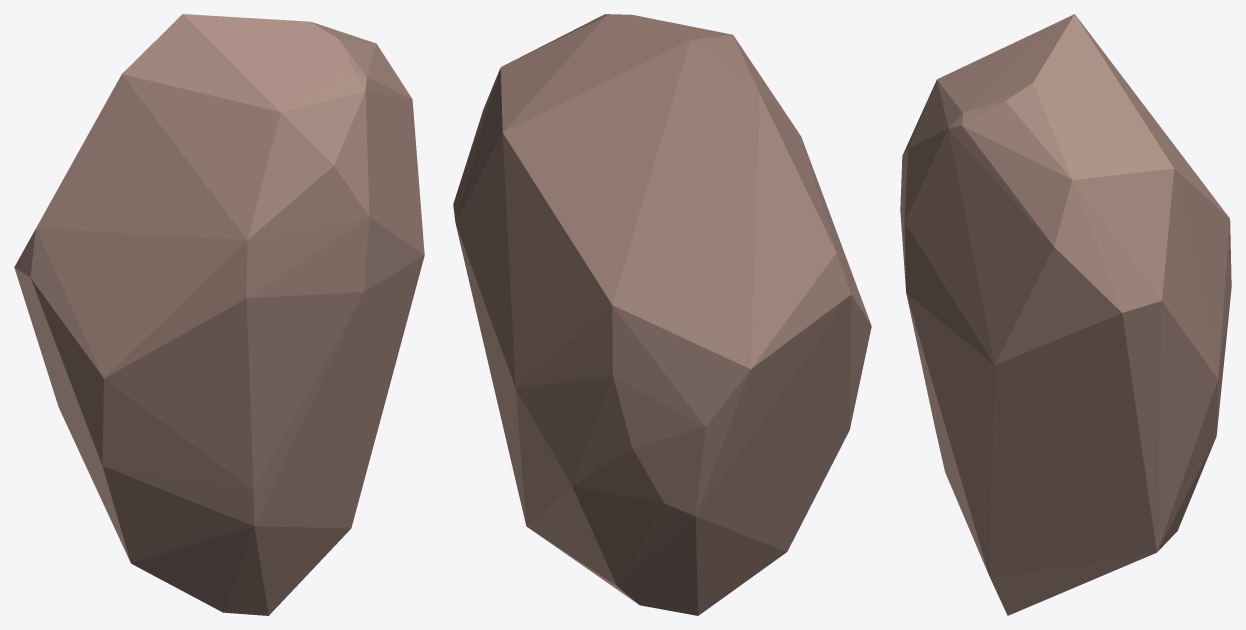
Rendered from food_produce_mango_g01.glb.
3 renders of one model, left to right at view 1: azimuth 30°, elevation 25°; view 2: azimuth 150°, elevation 25°; view 3: azimuth 270°, elevation 25°, orthographic. The views are drawn at different scales.
Parts seen in each view (by area): view 1: geometry_0; view 2: geometry_0; view 3: geometry_0.
Part boxes in pixels (x1,y1,x2,y2): geometry_0: (14,14,424,615); geometry_0: (453,14,871,615); geometry_0: (900,14,1231,615).
Size of the model in its own units: 0.3123 by 0.4675 by 0.2432.
